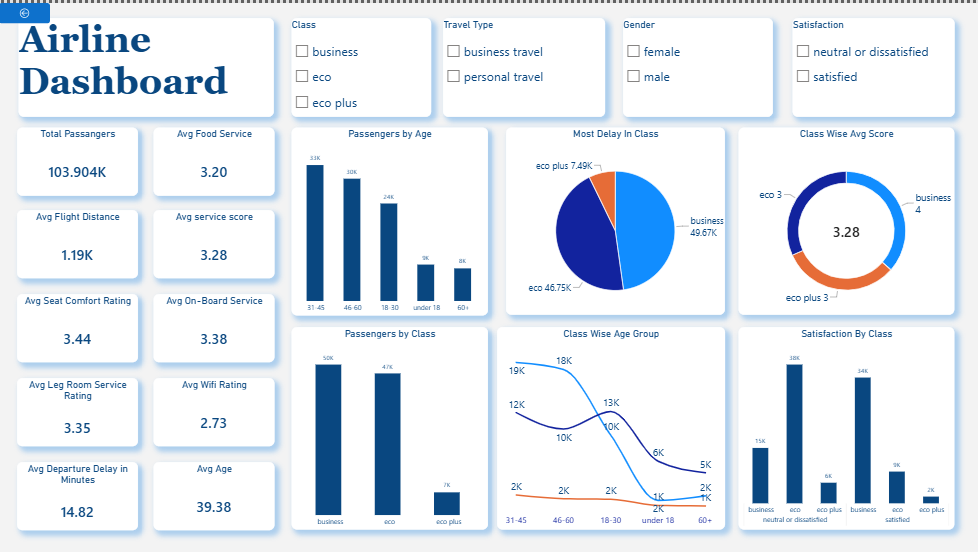

The page's visual inventory and layout, read from the dashboard file:
{"tool":"powerbi","page":{"name":"Page 1","canvas":[1920,1080],"ordinal":0},"visuals":[{"type":"cardVisual","title":"Total Passangers","fields":{"Data":["CountNonNull(clean_airline.id)"]},"box":[36.6,243.7,237.6,134],"z":0},{"type":"cardVisual","title":"Avg service score","fields":{"Data":["Avg(clean_airline.service score)"]},"box":[301.6,405.1,237.6,134],"z":1000},{"type":"cardVisual","title":"Avg Seat Comfort Rating","fields":{"Data":["Avg(clean_airline.seat comfort)"]},"box":[36.6,569.6,237.6,134],"z":2000},{"type":"cardVisual","title":"Avg On-Board Service","fields":{"Data":["Avg(clean_airline.on-board service)"]},"box":[301.6,569.6,237.6,134],"z":3000},{"type":"cardVisual","title":"Avg Leg Room Service Rating","fields":{"Data":["Avg(clean_airline.leg room service)"]},"box":[36.6,734.1,237.6,134],"z":4000},{"type":"cardVisual","title":"Avg Wifi Rating","fields":{"Data":["Avg(clean_airline.inflight wifi service)"]},"box":[301.6,734.1,237.6,134],"z":5000},{"type":"cardVisual","title":"Avg Food Service","fields":{"Data":["Avg(clean_airline.food and drink)"]},"box":[301.6,243.7,237.6,134],"z":6000},{"type":"cardVisual","title":"Avg Flight Distance","fields":{"Data":["Avg(clean_airline.flight distance)"]},"box":[36.6,405.1,237.6,134],"z":7000},{"type":"cardVisual","title":"Avg Departure Delay in Minutes","fields":{"Data":["Avg(clean_airline.departure delay in minutes)"]},"box":[36.6,898.6,237.6,134],"z":8000},{"type":"cardVisual","title":"Avg Age","fields":{"Data":["Avg(clean_airline.age)"]},"box":[301.6,898.6,237.6,134],"z":9000},{"type":"textbox","box":[38.3,29.4,500.4,194.3],"z":10000},{"type":"columnChart","title":"Passengers by Class","fields":{"Category":["clean_airline.class"],"Y":["Count(clean_airline.id)"]},"box":[573.5,635.3,385.3,397.1],"z":11000},{"type":"clusteredColumnChart","title":"Satisfaction By Class","fields":{"Category":["clean_airline.satisfaction","clean_airline.class"],"Y":["Count(clean_airline.id)"]},"box":[1450,635.3,423.5,397.1],"z":12000},{"type":"slicer","title":"Class","fields":{"Values":["clean_airline.class"]},"box":[573.9,29.4,273.7,194.3],"z":13000},{"type":"actionButton","box":[0,0,100,40],"z":14000},{"type":"slicer","title":"Travel Type","fields":{"Values":["clean_airline.type of travel"]},"box":[871.2,29.4,317.9,194.3],"z":15000},{"type":"slicer","title":"Gender","fields":{"Values":["clean_airline.gender"]},"box":[1224.4,29.4,294.3,194.3],"z":16000},{"type":"slicer","title":"Satisfaction","fields":{"Values":["clean_airline.satisfaction"]},"box":[1557,29.4,317.9,194.3],"z":17000},{"type":"pieChart","title":"Most Delay In Class","fields":{"Category":["clean_airline.class"],"Y":["CountNonNull(clean_airline.delay category)"]},"box":[994.1,244.1,429.4,367.6],"z":17001},{"type":"columnChart","title":"Passengers by Age","fields":{"Y":["Count(clean_airline.id)"],"Category":["clean_airline.age group"]},"box":[572.6,243.8,385.5,368.5],"z":17003},{"type":"donutChart","title":"Class Wise Avg Score","fields":{"Y":["Avg(clean_airline.service score)"],"Category":["clean_airline.class"]},"box":[1450,244.1,423.5,367.6],"z":17004},{"type":"lineChart","title":"Class Wise Age Group","fields":{"Category":["clean_airline.age group"],"Y":["Count(clean_airline.id)"],"Series":["clean_airline.class"]},"box":[976.5,635.3,447.1,397.1],"z":17005}]}

Visuals, with their boxes in screenshot pixels (x1, y1, x2, y2), scaled from the page's 1920x1080 canvas onto the 978x552 screenshot:
"Total Passangers" cardVisual: bbox(19, 125, 140, 193)
"Avg service score" cardVisual: bbox(154, 207, 275, 276)
"Avg Seat Comfort Rating" cardVisual: bbox(19, 291, 140, 360)
"Avg On-Board Service" cardVisual: bbox(154, 291, 275, 360)
"Avg Leg Room Service Rating" cardVisual: bbox(19, 375, 140, 444)
"Avg Wifi Rating" cardVisual: bbox(154, 375, 275, 444)
"Avg Food Service" cardVisual: bbox(154, 125, 275, 193)
"Avg Flight Distance" cardVisual: bbox(19, 207, 140, 276)
"Avg Departure Delay in Minutes" cardVisual: bbox(19, 459, 140, 528)
"Avg Age" cardVisual: bbox(154, 459, 275, 528)
textbox: bbox(20, 15, 274, 114)
"Passengers by Class" columnChart: bbox(292, 325, 488, 528)
"Satisfaction By Class" clusteredColumnChart: bbox(739, 325, 954, 528)
"Class" slicer: bbox(292, 15, 432, 114)
actionButton: bbox(0, 0, 51, 20)
"Travel Type" slicer: bbox(444, 15, 606, 114)
"Gender" slicer: bbox(624, 15, 774, 114)
"Satisfaction" slicer: bbox(793, 15, 955, 114)
"Most Delay In Class" pieChart: bbox(506, 125, 725, 313)
"Passengers by Age" columnChart: bbox(292, 125, 488, 313)
"Class Wise Avg Score" donutChart: bbox(739, 125, 954, 313)
"Class Wise Age Group" lineChart: bbox(497, 325, 725, 528)
